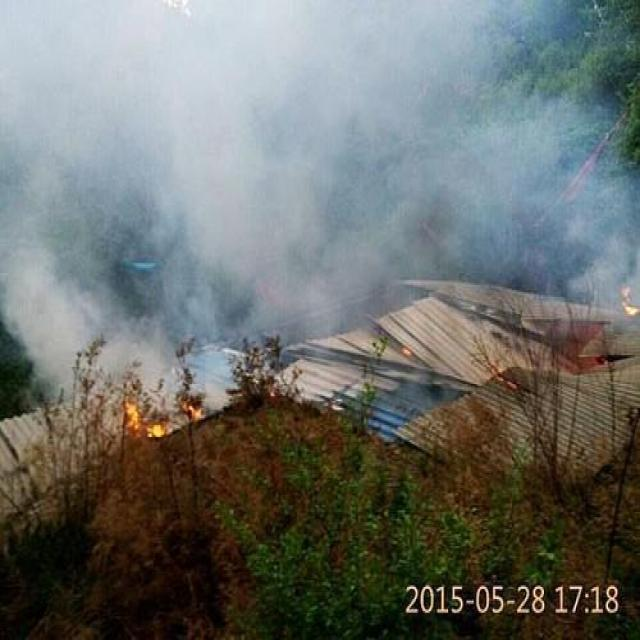Fire: (121, 389, 170, 443), (179, 398, 209, 425), (401, 336, 408, 354)
Smoke: (168, 51, 310, 272), (18, 268, 152, 378), (472, 108, 583, 206)
